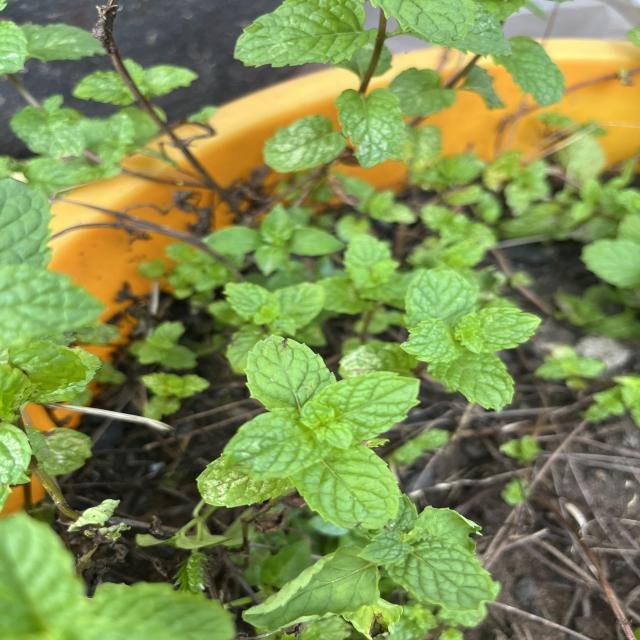Mentha spicata: (286, 442, 404, 530), (232, 0, 376, 69), (308, 369, 423, 447), (386, 534, 498, 612), (242, 332, 336, 412), (464, 306, 544, 356)
